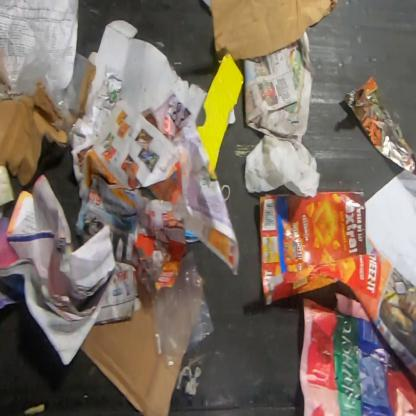cardboard: (84, 18, 210, 165), (79, 283, 180, 415), (208, 0, 339, 66), (0, 77, 70, 188), (195, 53, 246, 171), (229, 106, 237, 125)
soft_plastic: (150, 250, 216, 368)
